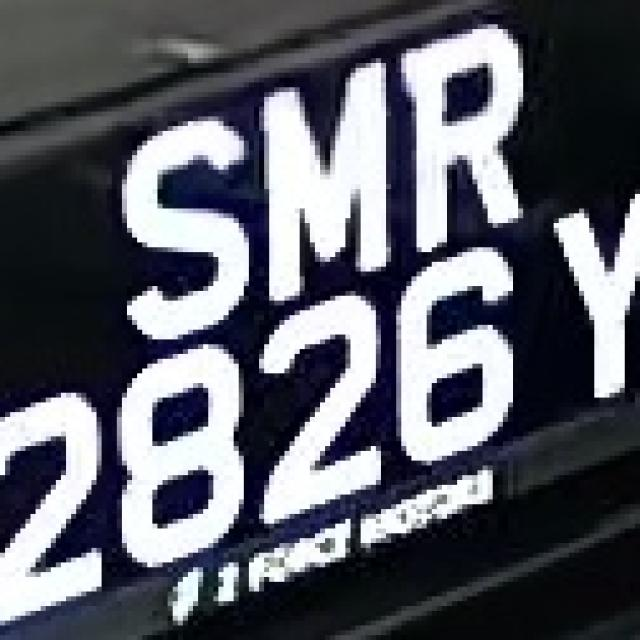2: (234, 276, 396, 528), (1, 387, 102, 620), (0, 3, 1, 5)
6: (386, 243, 538, 475)
8: (102, 349, 280, 572)
M: (224, 68, 422, 300)
R: (366, 24, 533, 248)
S: (92, 92, 274, 340)
Y: (552, 191, 640, 397), (4, 1, 5, 3)
